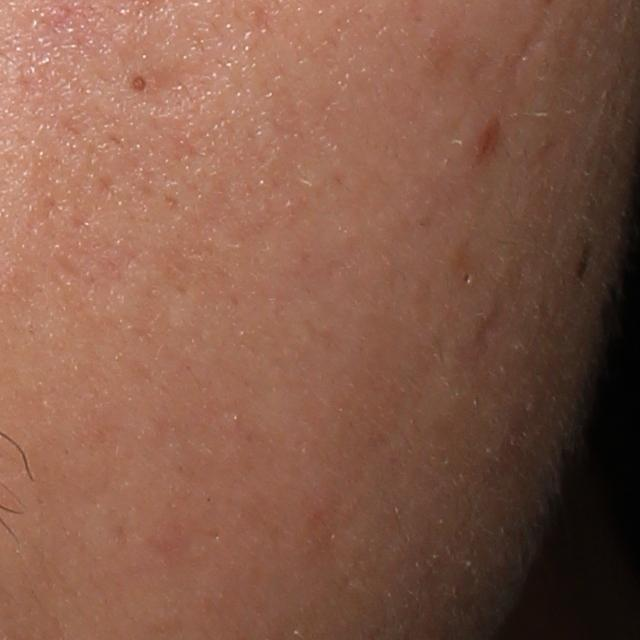comedo: (123, 67, 152, 97)
nevus: (571, 237, 594, 279)
papule: (473, 115, 504, 164)
